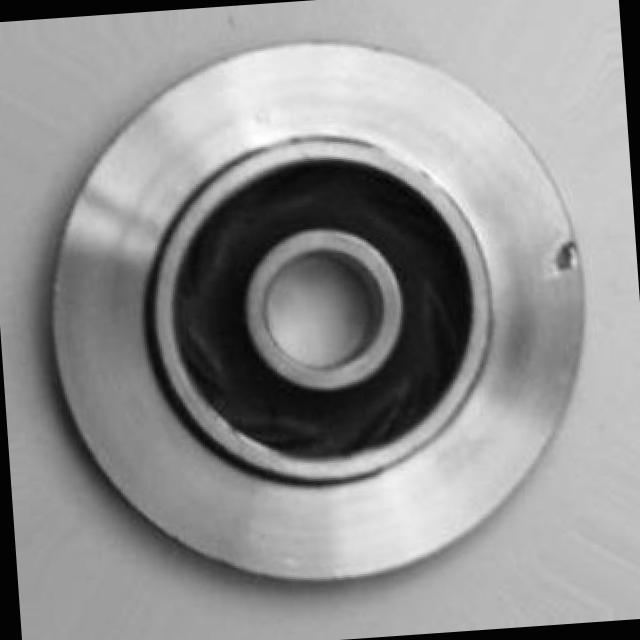Defect: (555, 238, 581, 280)
